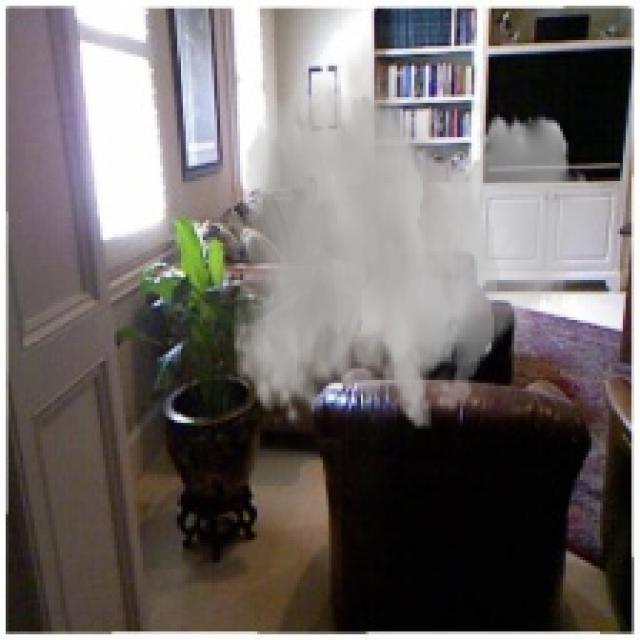Smoke: (232, 29, 617, 432)
